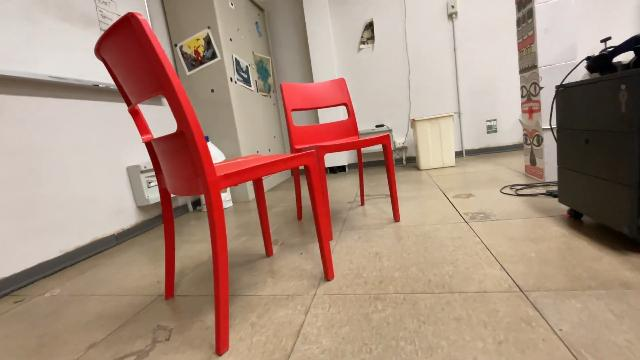Chair: (92, 8, 342, 360), (278, 72, 404, 244)
